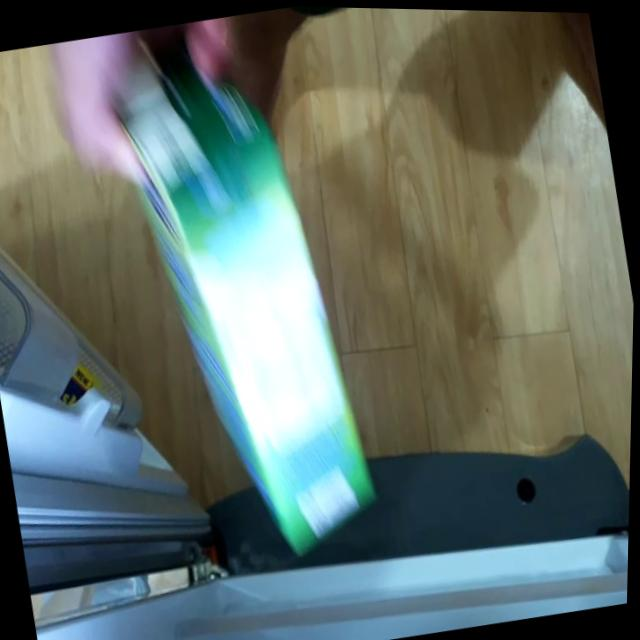milk: (106, 53, 388, 568)
